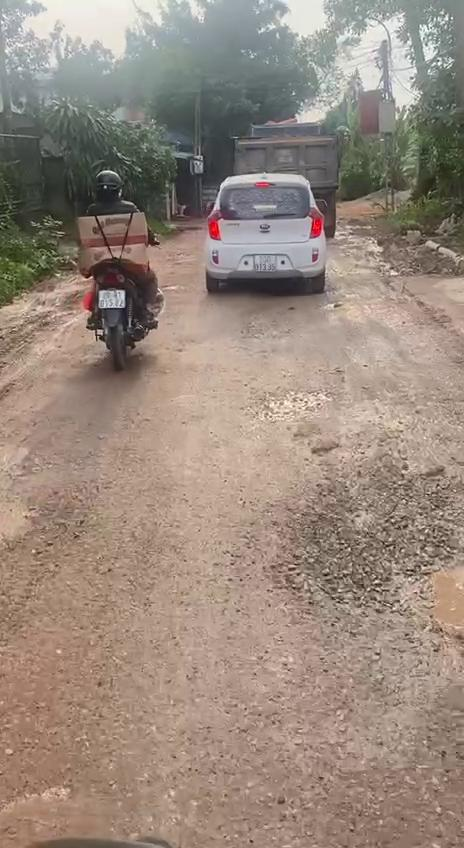pothole: (280, 458, 464, 653)
